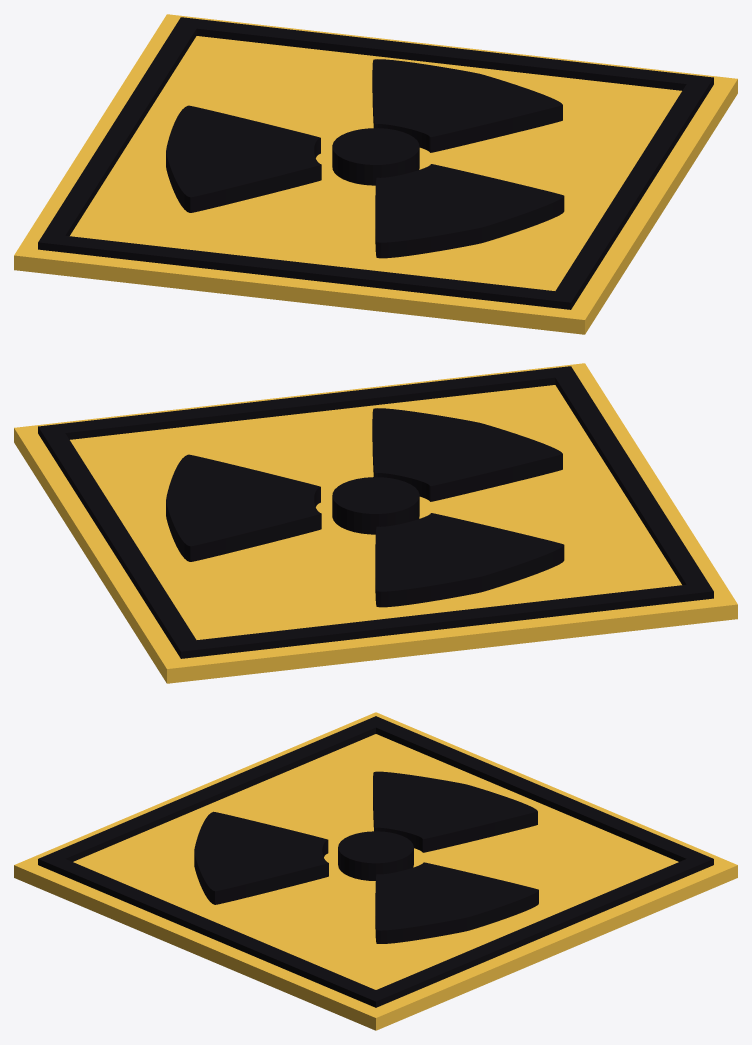
Rendered from RadioactiveWarningSign.fbx.
3 renders of one model, top to bottom at view 1: azimuth 30°, elevation 25°; view 2: azimuth 150°, elevation 25°; view 3: azimuth 270°, elevation 25°, orthographic. The views are drawn at different scales.
Visible parts, largest first — view 1: RadioactiveWarningSign; view 2: RadioactiveWarningSign; view 3: RadioactiveWarningSign.
Boxes of the visible parts, x1,y1,x2,y2 form: RadioactiveWarningSign: [14, 14, 737, 334]; RadioactiveWarningSign: [14, 363, 737, 683]; RadioactiveWarningSign: [14, 712, 737, 1030].
Size of the model in its own units: 283 by 13.16 by 283.
